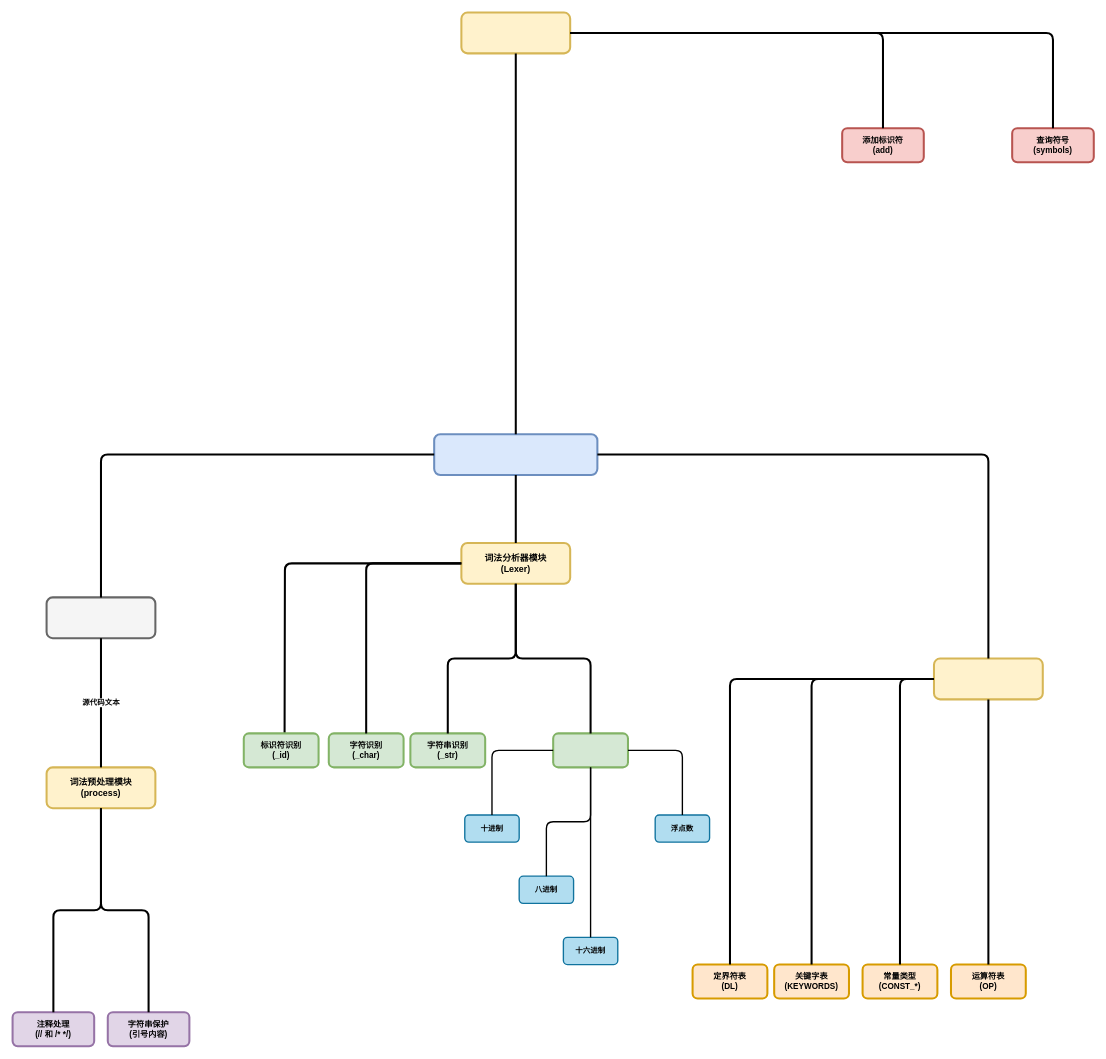
This 1106x1059 diagram has some shape labels left out. The box of each missing label's shape, as (x1, y1, x2, y2) in pixels:
C语言词法分析器系统: (433, 433, 598, 476)
Token定义模块 (常量定义): (933, 657, 1043, 700)
数字识别 (_num): (552, 732, 629, 768)
文件读取模块 (main - file I/O): (45, 596, 156, 639)
符号表管理模块 (SymbolTable): (460, 11, 571, 54)
